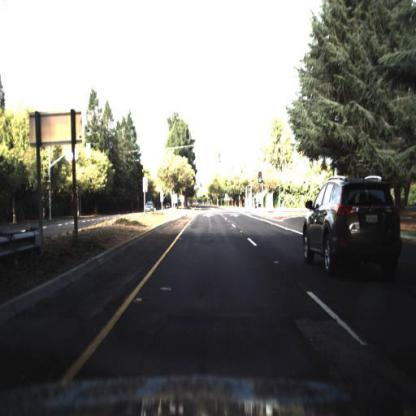car: (303, 176, 402, 283), (142, 198, 157, 218)
trafficLight-Green: (257, 172, 263, 189)
